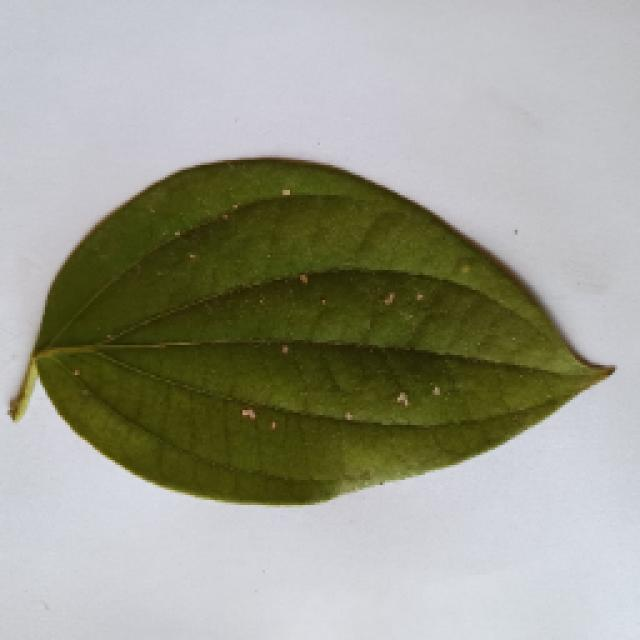pollu-disease: (0, 142, 612, 515)
